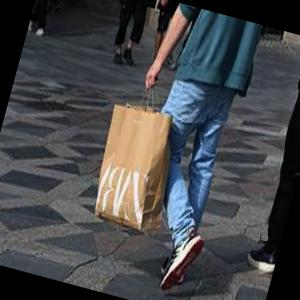zara: (83, 158, 161, 239)
